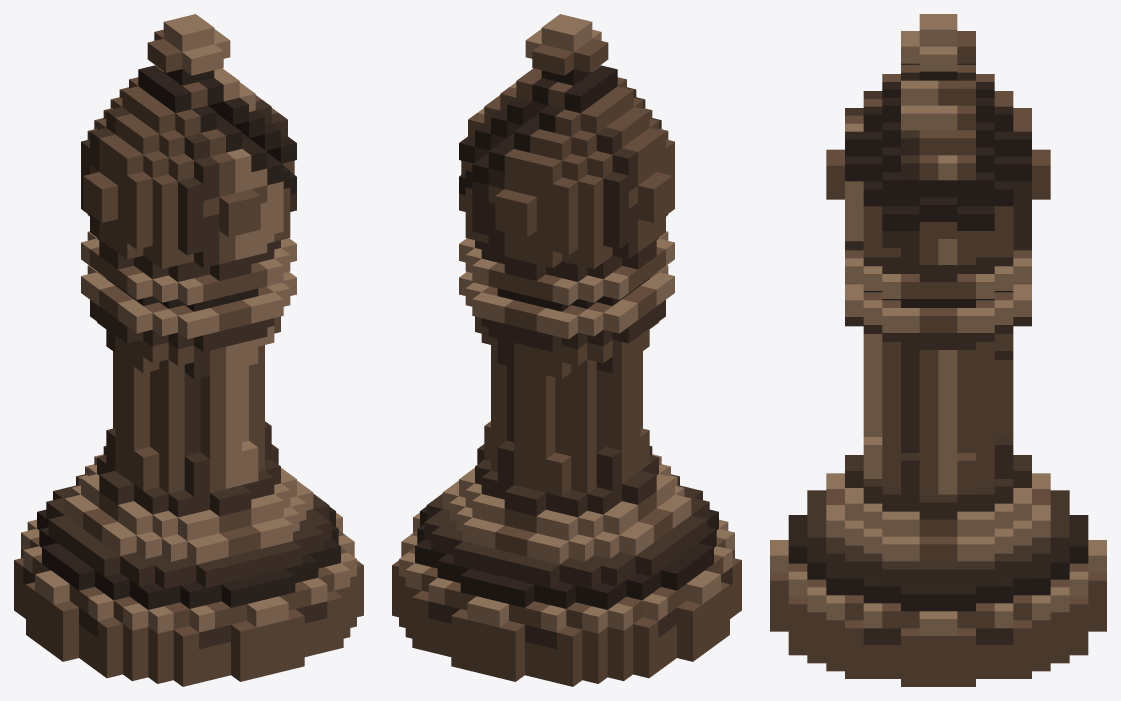
The model's file is bishop_black.obj.
3 views of the same model, side by side, from view 1: azimuth 30°, elevation 25°; view 2: azimuth 150°, elevation 25°; view 3: azimuth 270°, elevation 25° (orthographic).
Parts seen in each view (by area): view 1: bishop_black; view 2: bishop_black; view 3: bishop_black.
Part boxes in pixels (bbox=[...]): bishop_black: bbox=[14, 14, 363, 686]; bishop_black: bbox=[392, 14, 741, 686]; bishop_black: bbox=[770, 14, 1106, 686].
Bounding box in the file's own units: 0.378 × 0.735 × 0.378.
Materials: 1 (1 with a texture image).
